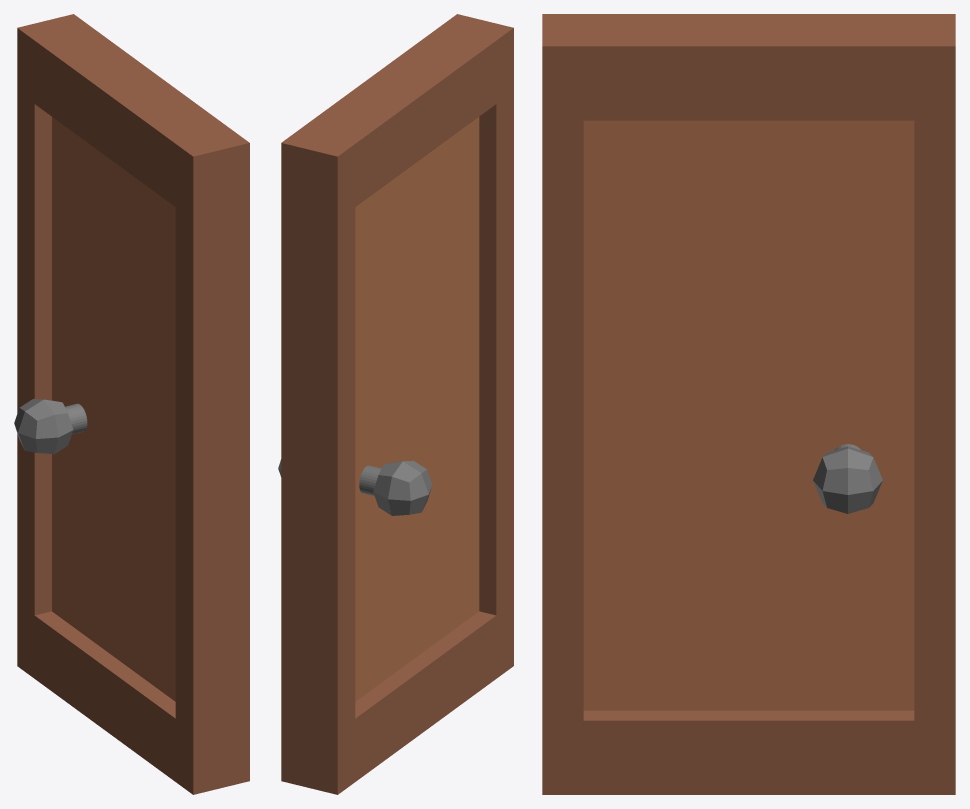
The model's file is Porte.glb.
3 renders of one model, left to right at view 1: azimuth 30°, elevation 25°; view 2: azimuth 150°, elevation 25°; view 3: azimuth 270°, elevation 25°, orthographic. The views are drawn at different scales.
Visible parts, largest first — view 1: Cube.004; view 2: Cube.004; view 3: Cube.004.
Part boxes in pixels (x1,y1,x2,y2): Cube.004: [14, 14, 249, 794]; Cube.004: [278, 14, 513, 794]; Cube.004: [542, 14, 955, 794].
Bounding box in the file's own units: 0.4814 × 2 × 1.
